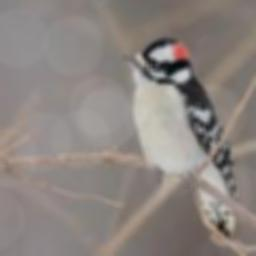Woodpecker: (122, 38, 238, 239)
